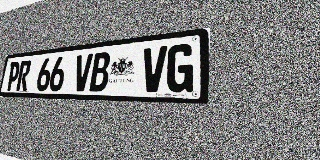6: (48, 56, 67, 91), (36, 58, 53, 91)
B: (89, 52, 111, 92)
G: (165, 43, 195, 92)
P: (6, 61, 21, 91)
R: (16, 60, 32, 91)
V: (141, 46, 167, 92), (72, 53, 93, 91)
